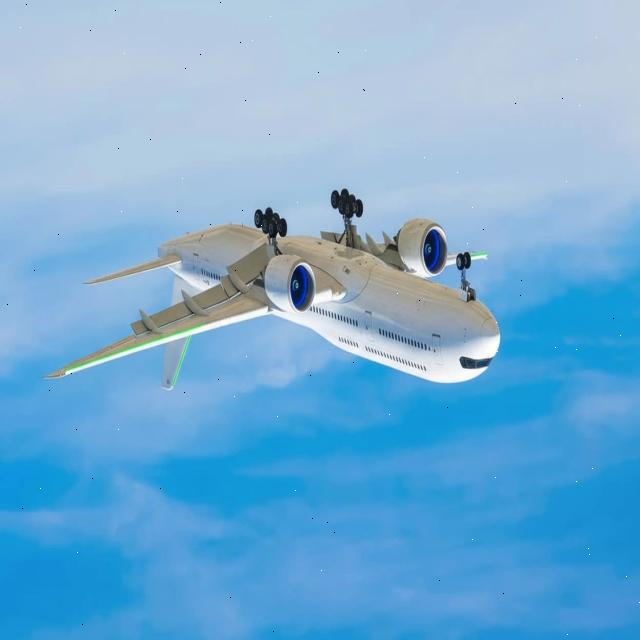aircraft: (0, 156, 551, 464)
